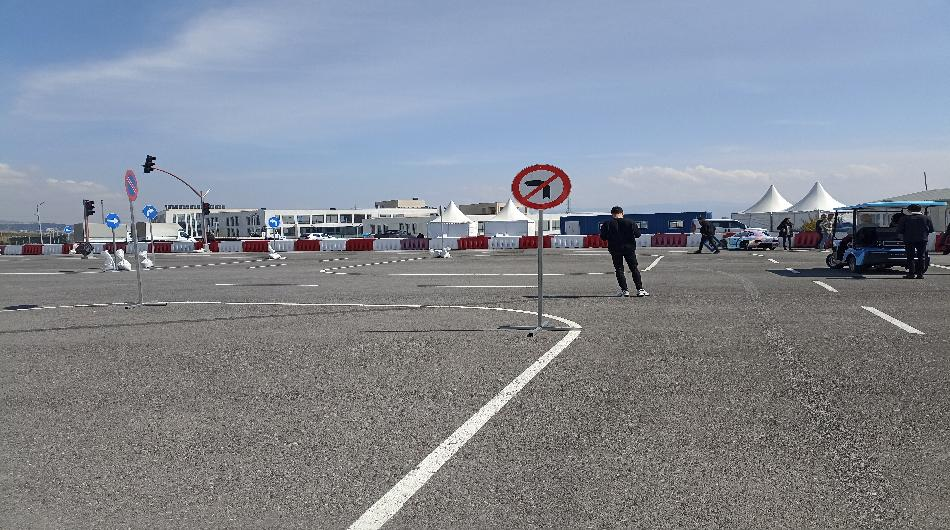park_yapilmaz_1: (125, 171, 140, 207)
sola_donulmez: (509, 164, 569, 208)
